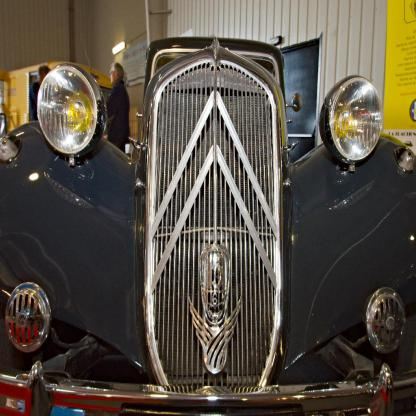Car: (0, 33, 415, 413)
